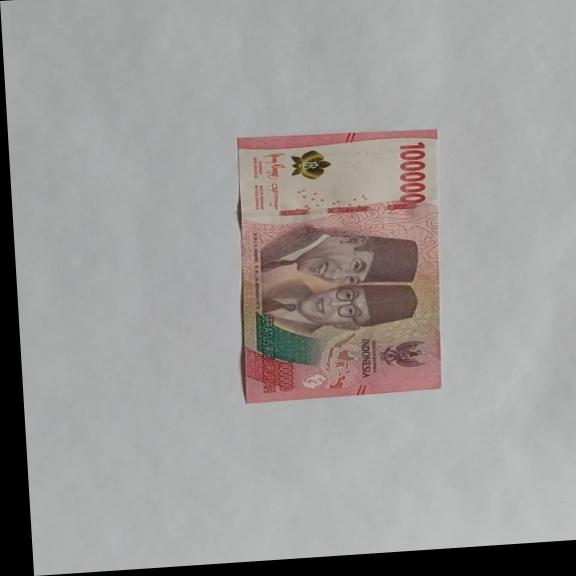Kertas: (226, 124, 450, 404), (393, 139, 430, 205)
